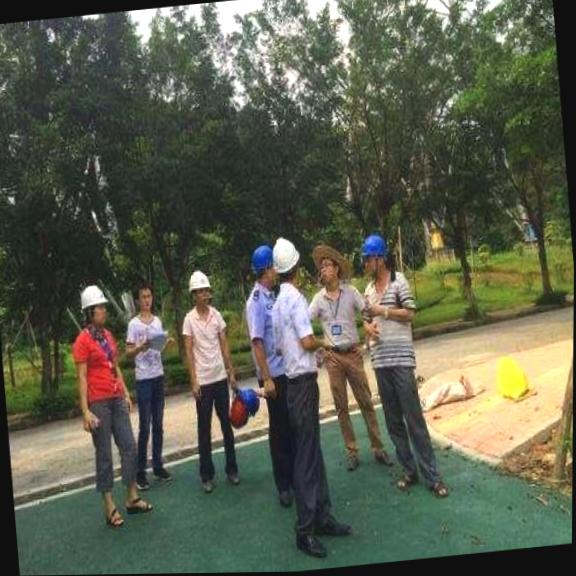no_safety_vest: (361, 271, 423, 365), (267, 284, 319, 379), (70, 323, 128, 405), (180, 302, 235, 388), (240, 281, 289, 376), (309, 281, 367, 356), (123, 310, 172, 381)
